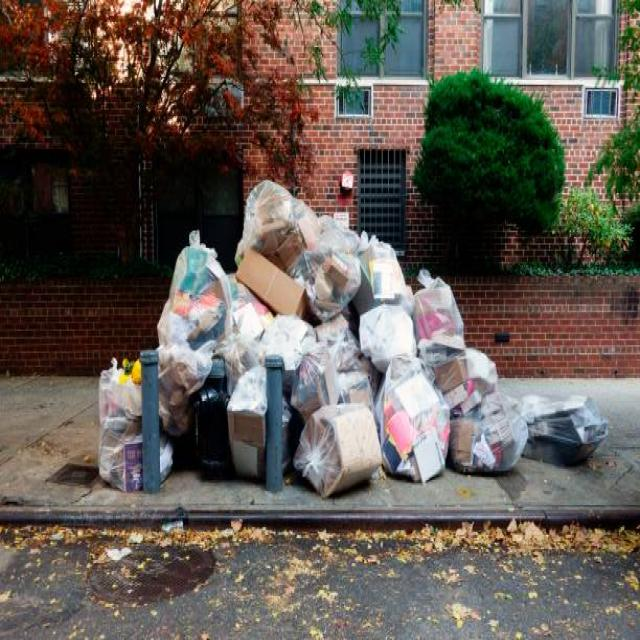trash: (67, 169, 614, 463), (217, 177, 528, 482)
